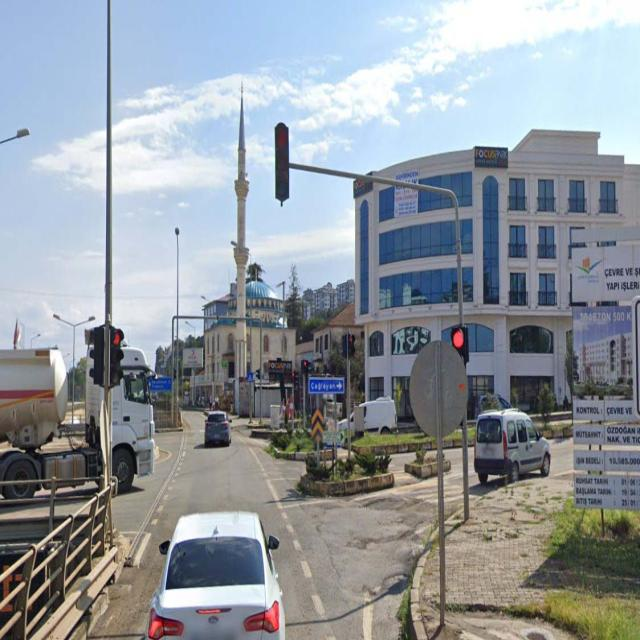kirmizi: (274, 124, 288, 200), (110, 328, 124, 392)
